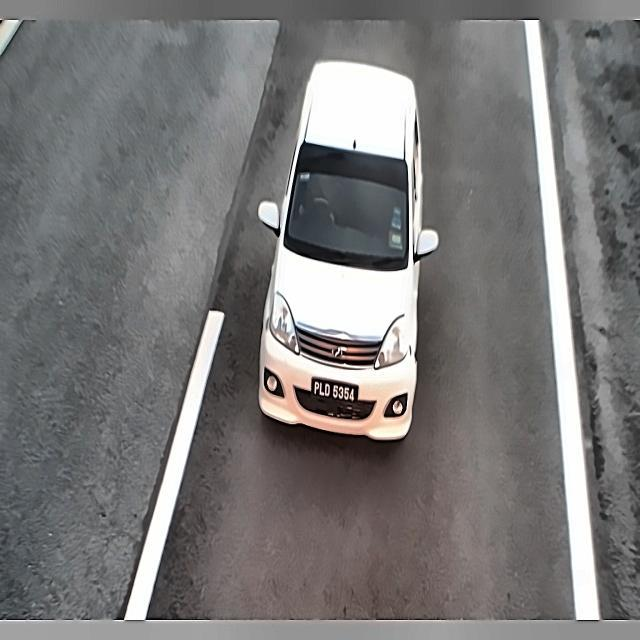car: (310, 371, 362, 411)
